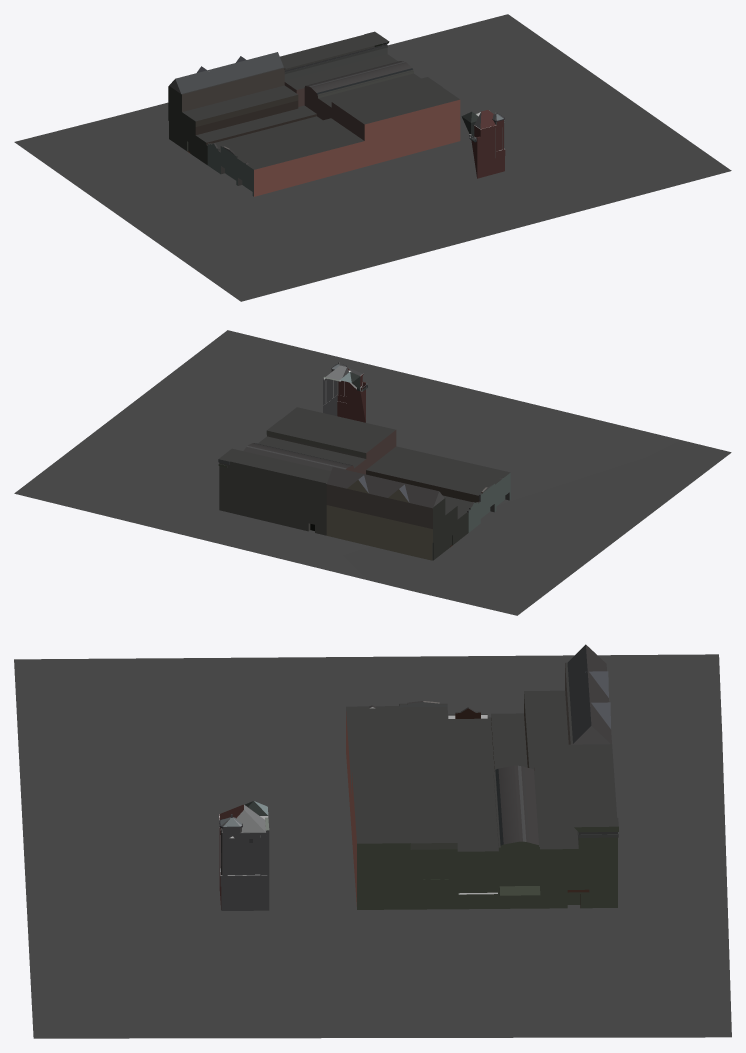
The model's file is 800-block-between-market-and-broad.glb.
3 renders of one model, top to bottom at view 1: azimuth 30°, elevation 25°; view 2: azimuth 150°, elevation 25°; view 3: azimuth 270°, elevation 25°, orthographic. The views are drawn at different scales.
Parts seen in each view (by area): view 1: LOD0; view 2: LOD0; view 3: LOD0.
Part boxes in pixels (<box>): LOD0: <box>14,14,731,301</box>; LOD0: <box>14,330,731,615</box>; LOD0: <box>14,644,731,1038</box>.
Size of what is drawn, in the model's own units: 146 by 18.18 by 112.
2 materials, 2 textured.
